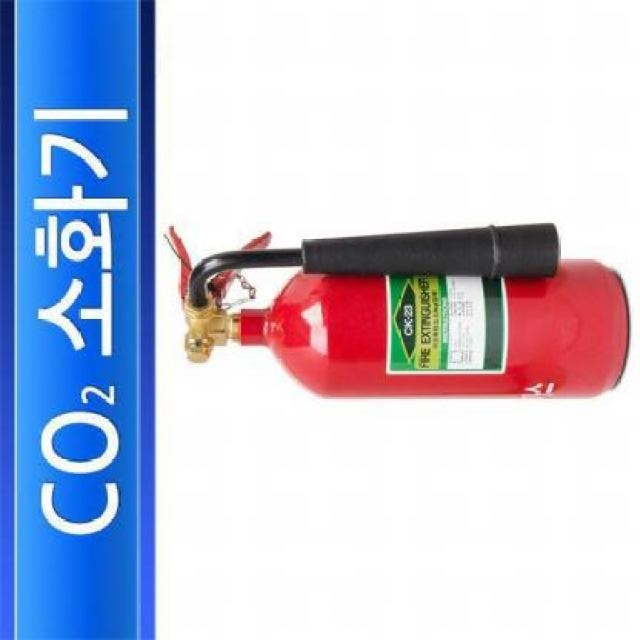fire extinguisher: (169, 221, 629, 401)
